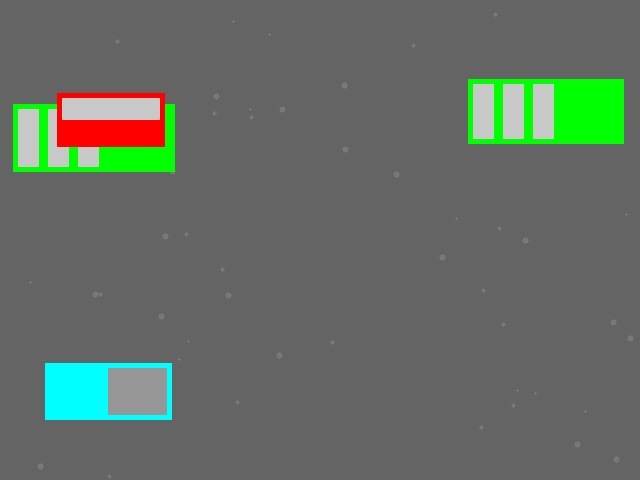bus: (13, 104, 174, 171), (468, 79, 623, 143)
car: (57, 93, 164, 146)
truck: (45, 363, 171, 419)
